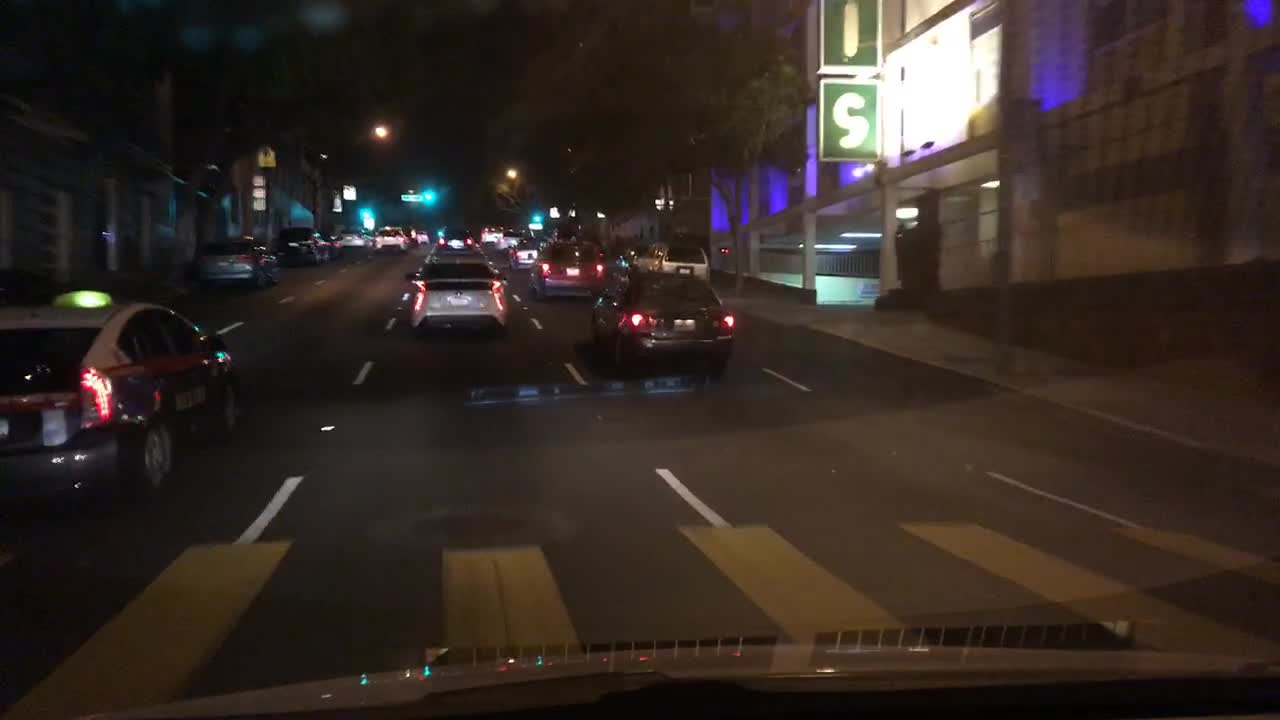car: (0, 299, 239, 513), (590, 270, 736, 375), (403, 259, 510, 337), (526, 233, 606, 304), (188, 237, 280, 290), (628, 239, 712, 284), (273, 225, 331, 268), (506, 233, 551, 273), (333, 227, 375, 255), (434, 226, 474, 254), (371, 226, 408, 255), (495, 231, 525, 253), (398, 223, 417, 248), (477, 226, 499, 243), (416, 229, 430, 243)
traffic light: (420, 190, 437, 205), (356, 206, 373, 217), (529, 211, 543, 222), (434, 227, 444, 236)
traffic sign: (255, 144, 275, 166), (342, 183, 357, 200), (250, 174, 267, 186), (399, 193, 422, 201), (251, 186, 265, 198), (252, 198, 265, 209), (524, 223, 543, 230)
